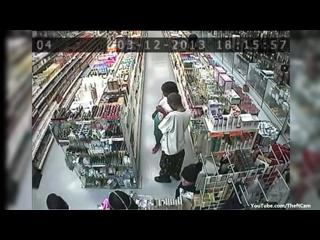Normal: (153, 93, 191, 183), (152, 81, 178, 154)
